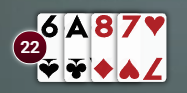6: (36, 11, 64, 41)
7: (116, 7, 143, 43)
8: (89, 9, 117, 41)
a: (61, 10, 92, 42)
